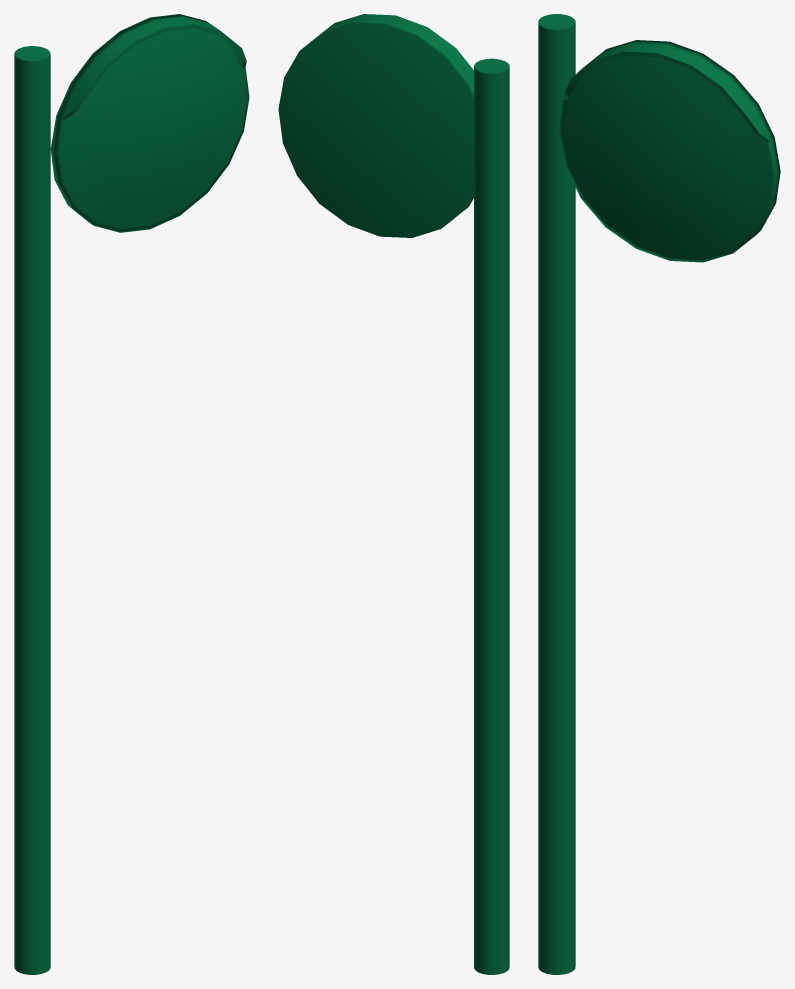
File: Curvedmirror_20.fbx
3 renders of one model, left to right at view 1: azimuth 30°, elevation 25°; view 2: azimuth 150°, elevation 25°; view 3: azimuth 330°, elevation 25°, orthographic. The views are drawn at different scales.
Parts seen in each view (by area): view 1: CurveMirror1; view 2: CurveMirror1; view 3: CurveMirror1.
Part boxes in pixels (x1,y1,x2,y2): CurveMirror1: (14,14,249,974); CurveMirror1: (278,14,509,974); CurveMirror1: (538,14,780,974).
Bounding box in the file's own units: 197 × 756 × 43.01.
